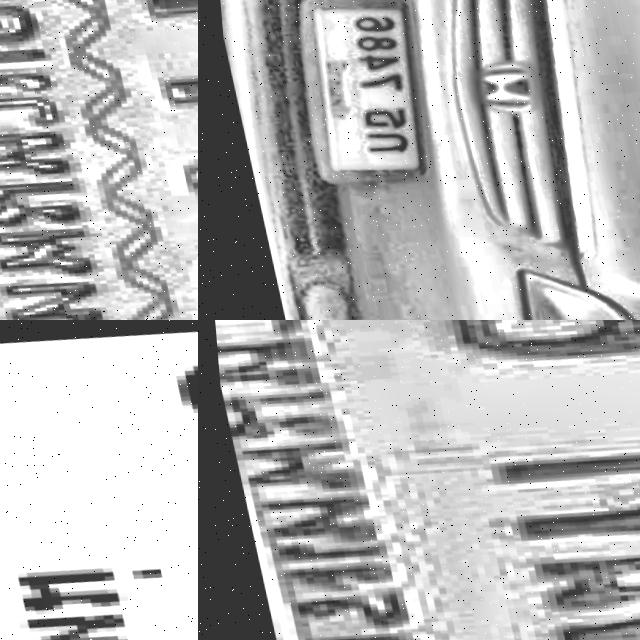license-plate: (198, 320, 640, 640), (0, 0, 198, 320), (0, 320, 198, 640), (274, 0, 446, 198)
